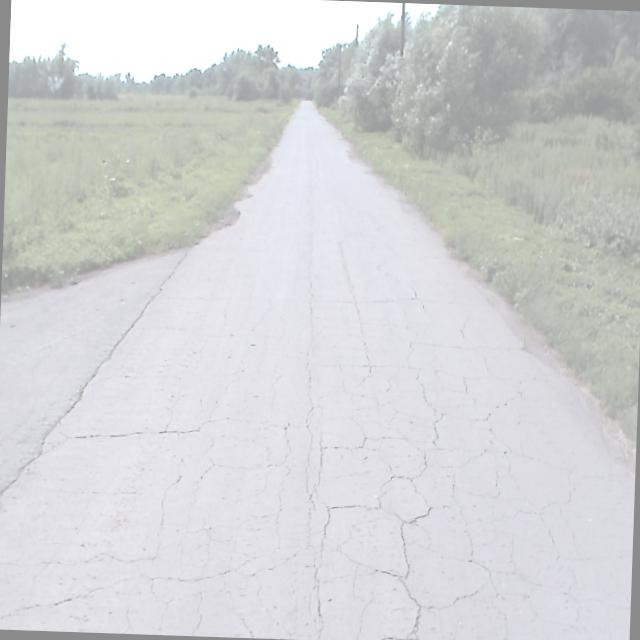road: (0, 100, 634, 640)
